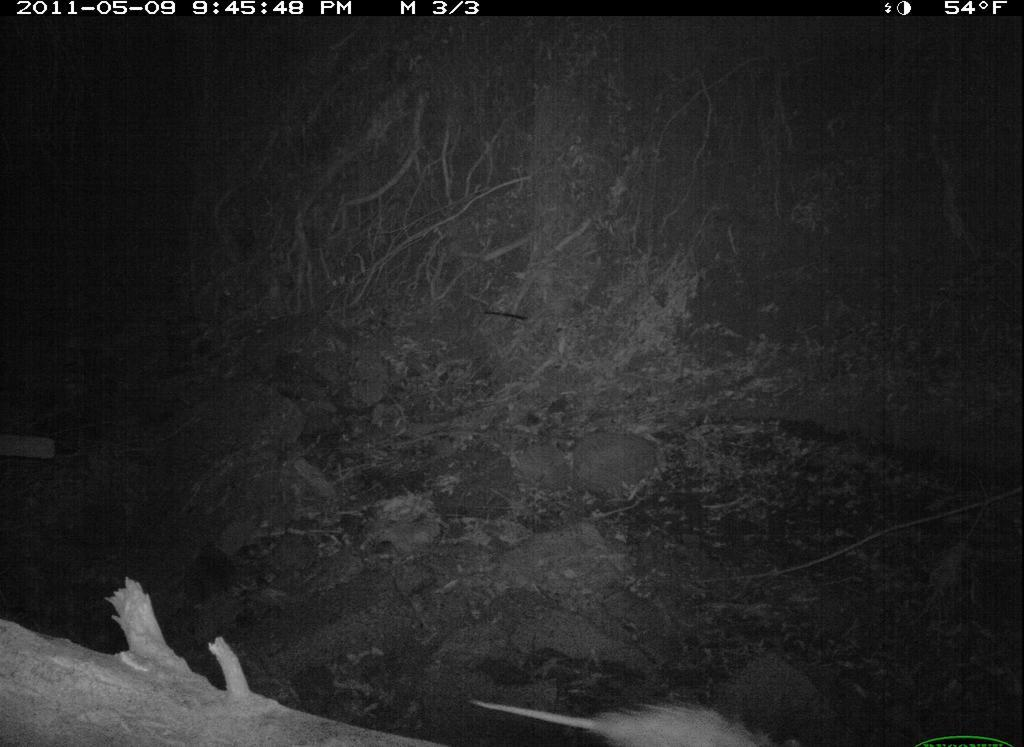opossum: (466, 684, 811, 747)
